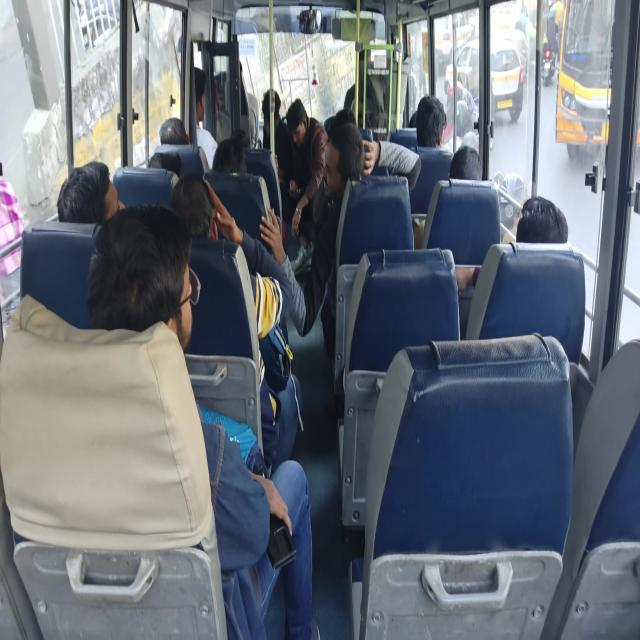person: (129, 253, 206, 357), (170, 181, 224, 250), (66, 165, 124, 226), (512, 206, 572, 258), (216, 142, 263, 196), (451, 149, 495, 199), (159, 106, 195, 164), (221, 46, 252, 111), (355, 36, 386, 100), (329, 142, 356, 202), (182, 65, 210, 118), (416, 105, 444, 157), (328, 121, 362, 163), (218, 124, 254, 161), (148, 149, 184, 179), (291, 105, 316, 144), (263, 100, 283, 142)
